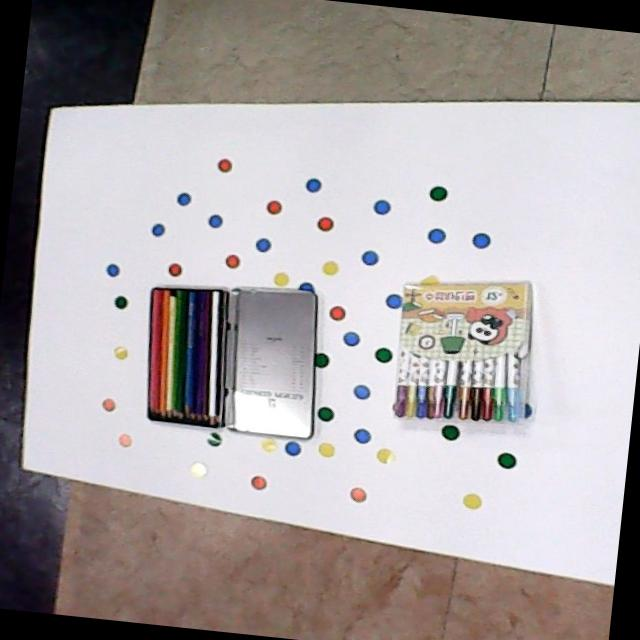color: (141, 278, 237, 431)
signpen: (388, 270, 538, 426)
